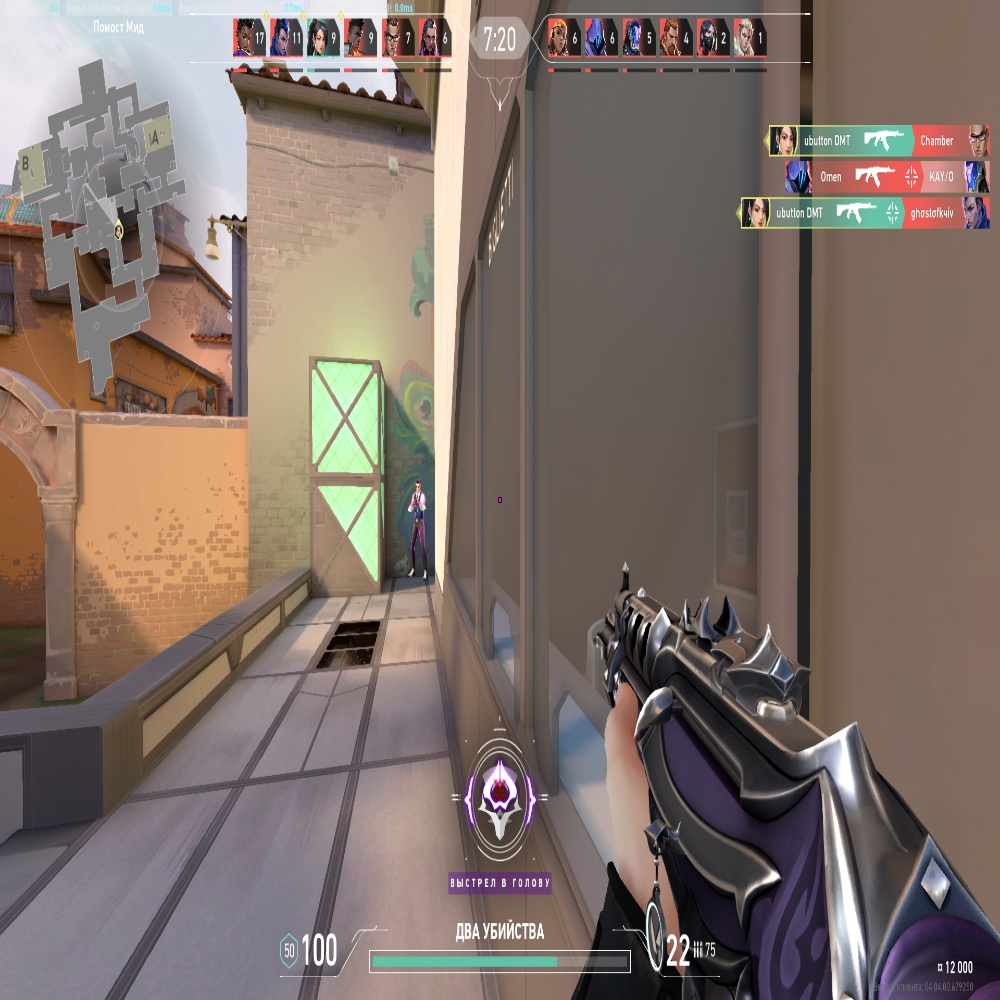body: (412, 495, 425, 522)
head: (415, 481, 421, 492)
